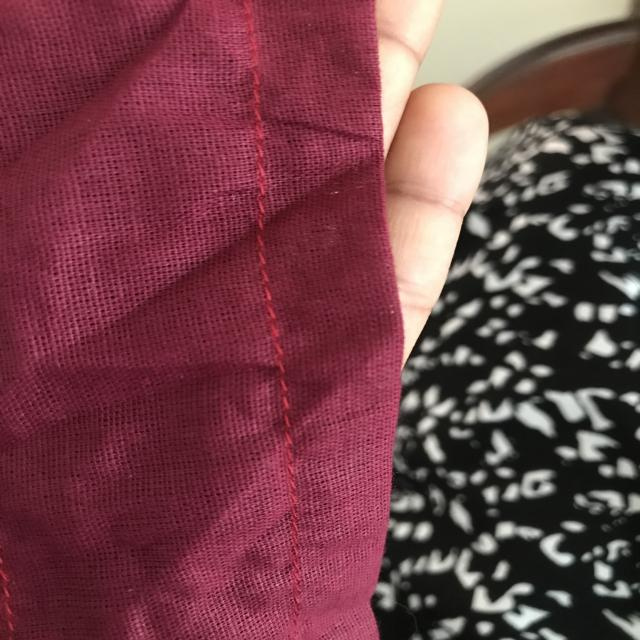good: (242, 252, 302, 344)
